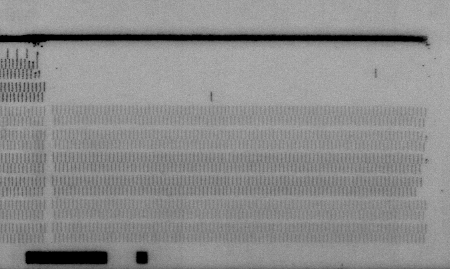Broken hole: (40, 43, 428, 103), (415, 184, 429, 196)
Oblique printing: (27, 57, 42, 81)
